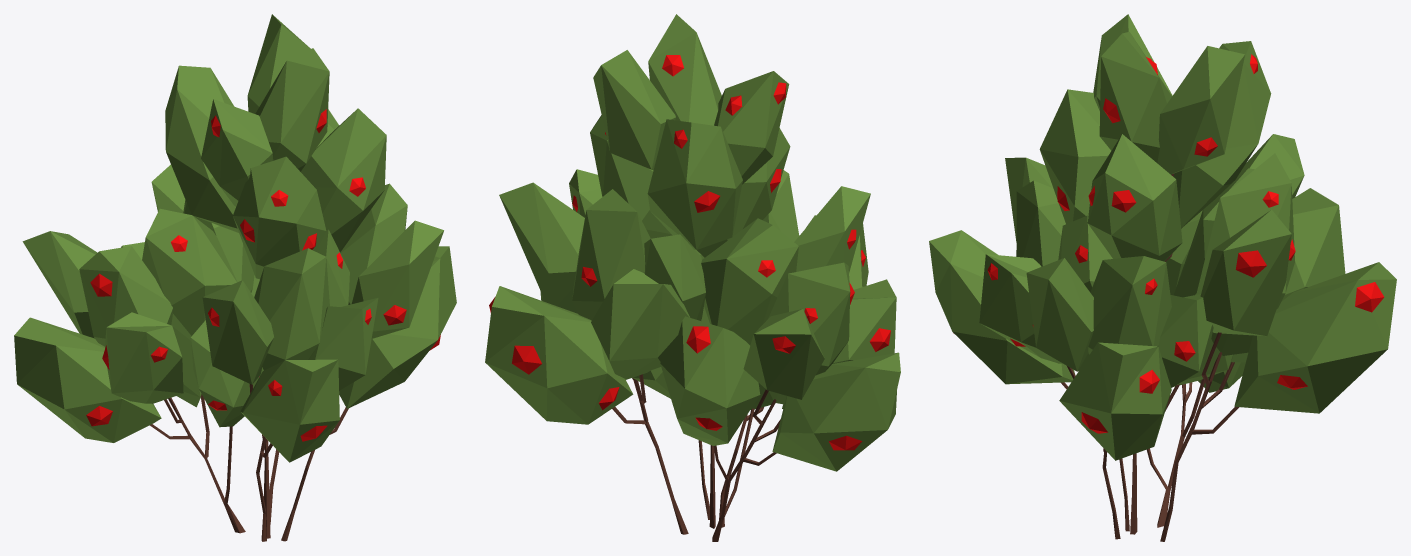
Rendered from mountain_ash_with_berries_2.fbx.
The picture shows the model from 3 angles, left to right: view 1: azimuth 30°, elevation 25°; view 2: azimuth 150°, elevation 25°; view 3: azimuth 270°, elevation 25°; orthographic projection. The views are drawn at different scales.
Parts seen in each view (by area): view 1: mountain_ash_with_berries_2; view 2: mountain_ash_with_berries_2; view 3: mountain_ash_with_berries_2.
Part boxes in pixels (x1,y1,x2,y2): mountain_ash_with_berries_2: (14, 14, 456, 541); mountain_ash_with_berries_2: (485, 14, 900, 541); mountain_ash_with_berries_2: (929, 14, 1396, 541).
Size of the model in its own units: 271 by 315 by 257.
